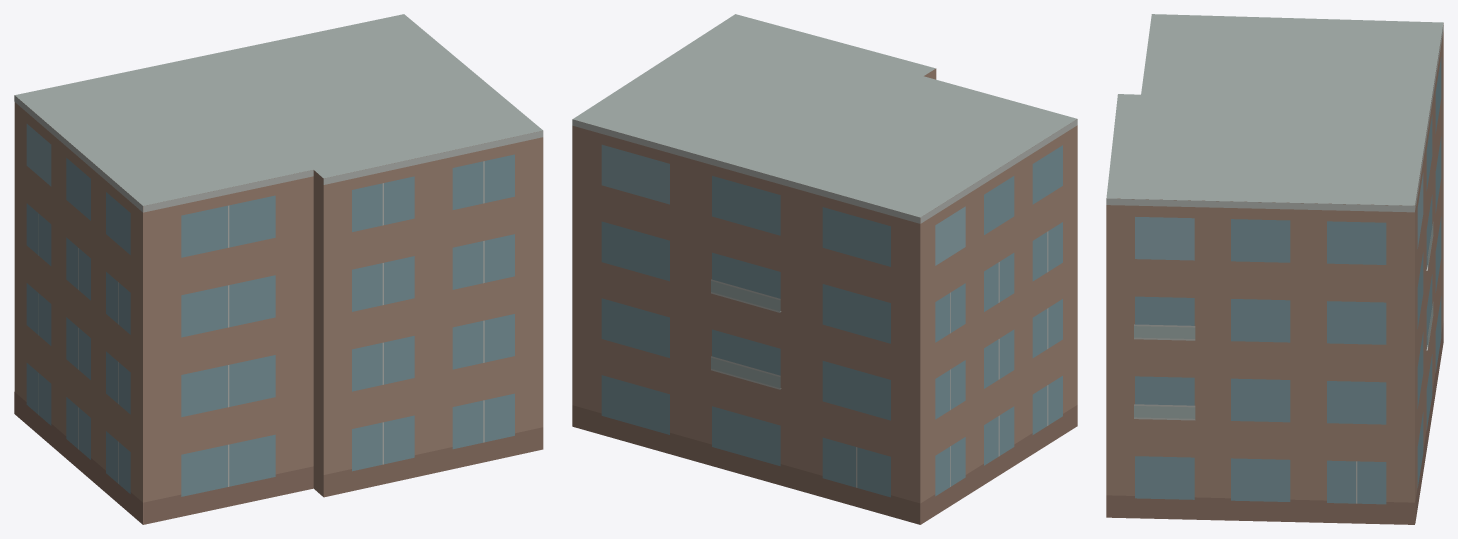
Rendered from survey-upis-32759777.glb.
3 renders of one model, left to right at view 1: azimuth 30°, elevation 25°; view 2: azimuth 150°, elevation 25°; view 3: azimuth 270°, elevation 25°, orthographic. The views are drawn at different scales.
Visible parts, largest first — view 1: survey-upis-32759777.tmp; view 2: survey-upis-32759777.tmp; view 3: survey-upis-32759777.tmp.
Boxes of the visible parts, <box> form: survey-upis-32759777.tmp: <box>14,14,543,524</box>; survey-upis-32759777.tmp: <box>572,14,1077,524</box>; survey-upis-32759777.tmp: <box>1106,14,1443,524</box>.
Size of the model in its own units: 15.21 by 11.8 by 11.31.
